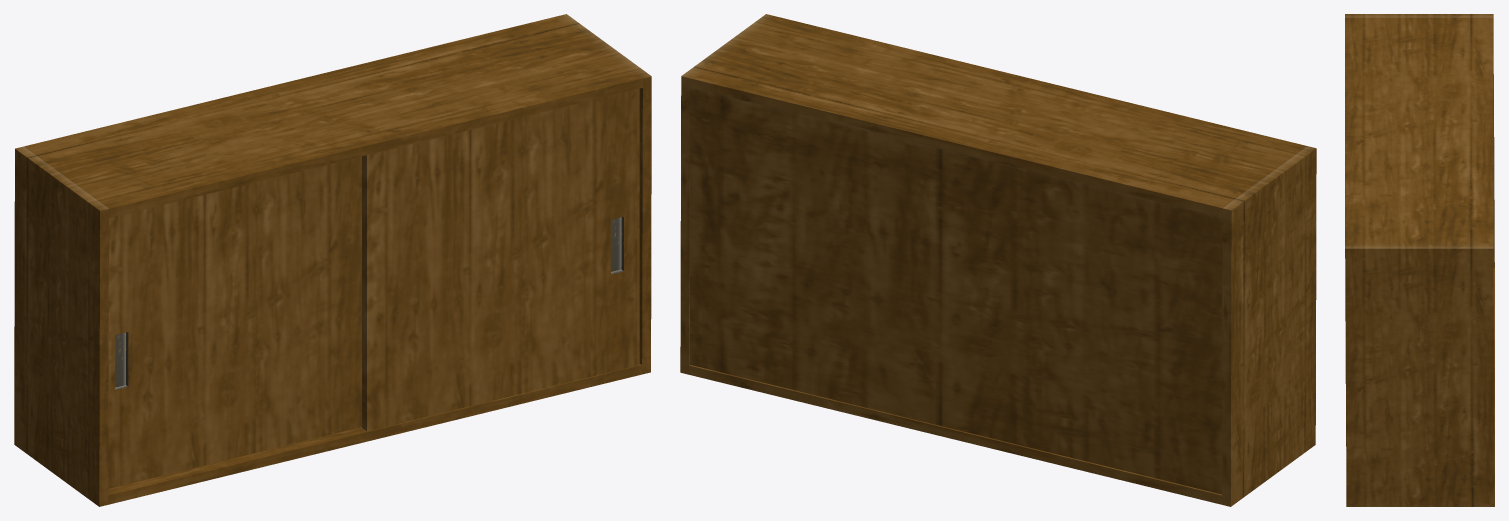
The model's file is cabin05a.fbx.
3 renders of one model, left to right at view 1: azimuth 30°, elevation 25°; view 2: azimuth 150°, elevation 25°; view 3: azimuth 270°, elevation 25°, orthographic. The views are drawn at different scales.
Parts seen in each view (by area): view 1: cabin05a; view 2: cabin05a; view 3: cabin05a.
Part boxes in pixels (x1,y1,x2,y2): cabin05a: (14, 14, 651, 506); cabin05a: (680, 14, 1316, 506); cabin05a: (1345, 14, 1494, 506).
Bounding box in the file's own units: 124 × 63.69 × 33.45.
